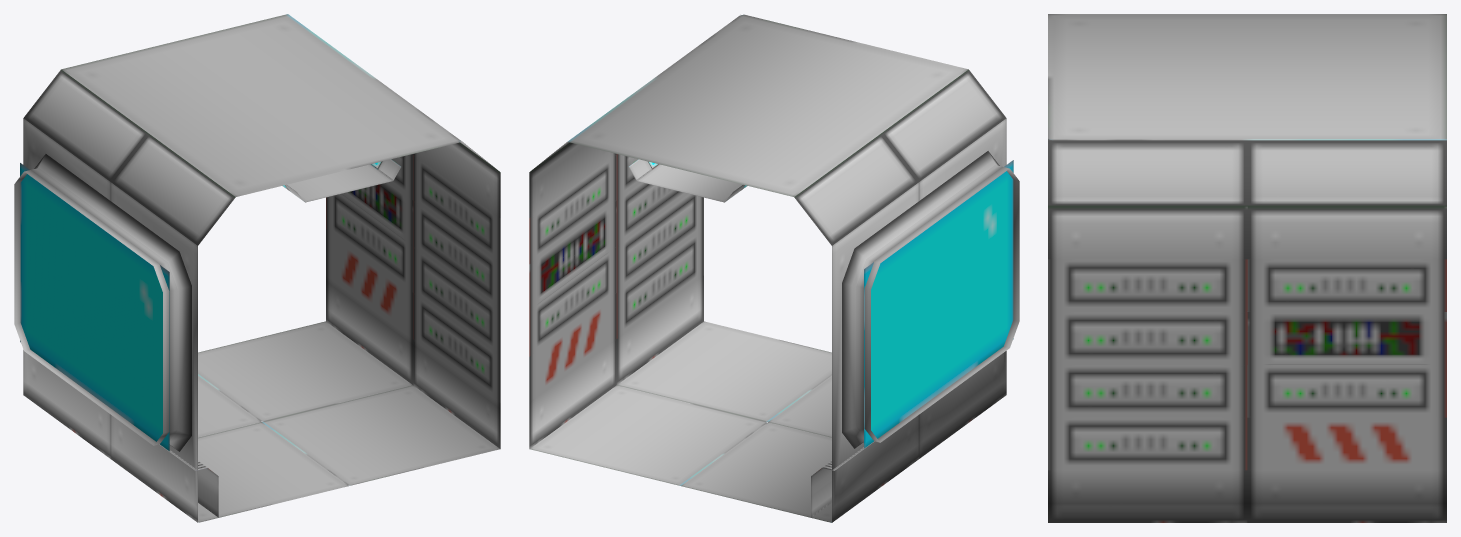
The model's file is corr_win_1.fbx.
3 renders of one model, left to right at view 1: azimuth 30°, elevation 25°; view 2: azimuth 150°, elevation 25°; view 3: azimuth 270°, elevation 25°, orthographic. The views are drawn at different scales.
Parts seen in each view (by area): view 1: Cube_014; view 2: Cube_014; view 3: Cube_014.
Part boxes in pixels (bbox=[...]): Cube_014: bbox=[14, 14, 500, 522]; Cube_014: bbox=[529, 14, 1019, 522]; Cube_014: bbox=[1048, 14, 1446, 522].
Bounding box in the file's own units: 8.63 × 8 × 8.
